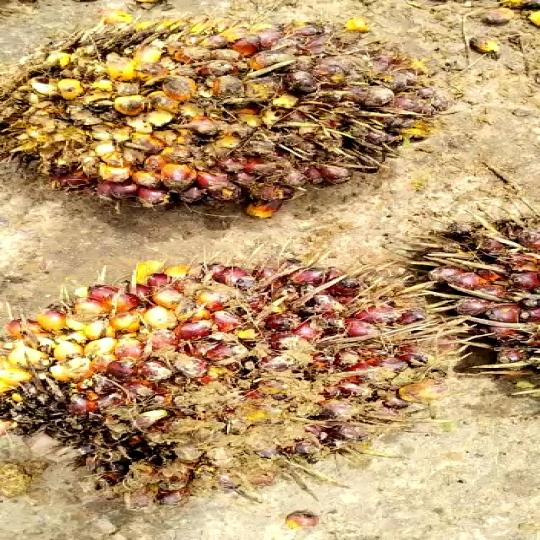masak: (0, 243, 454, 503), (0, 13, 456, 223)
